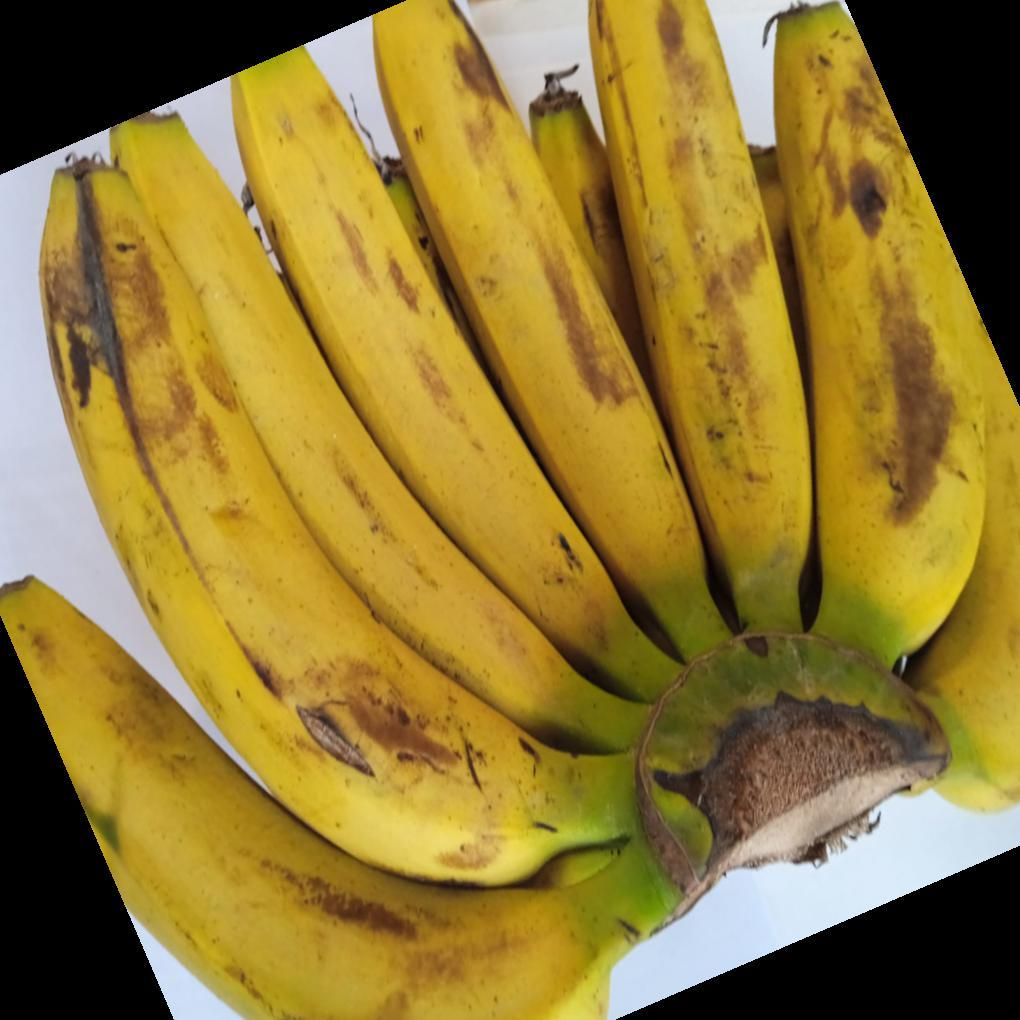Banana Ripe: (233, 0, 1020, 918), (3, 120, 760, 1020), (37, 118, 655, 1020), (209, 0, 724, 817), (553, 0, 1020, 790)
